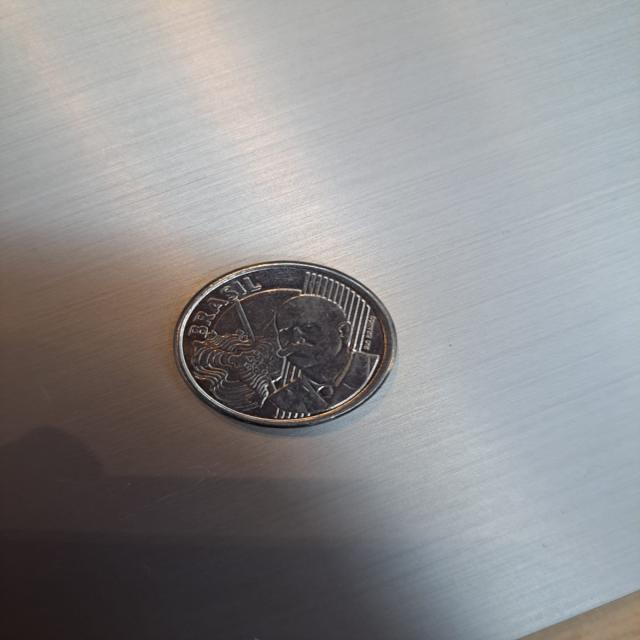50 cents: (168, 252, 403, 436)
